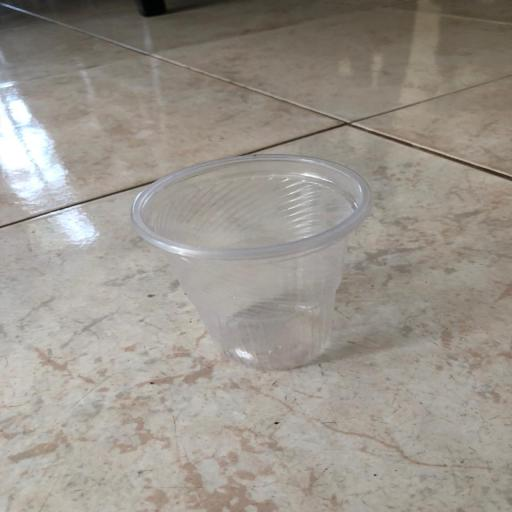waste: (116, 139, 393, 387)
